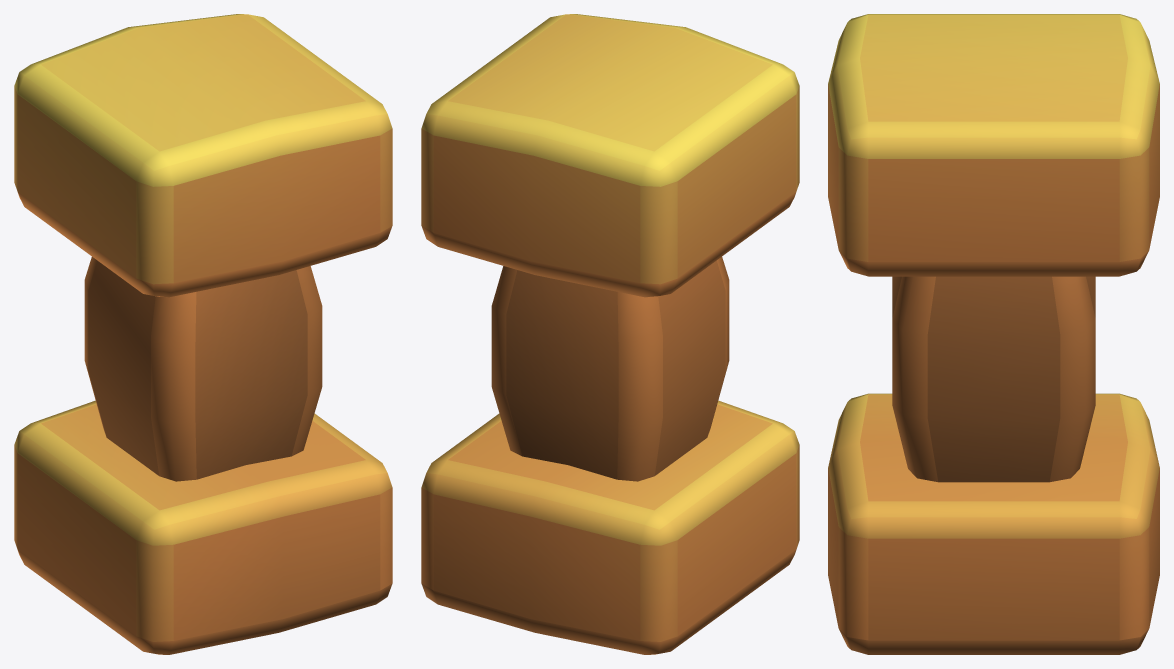
Rendered from rail3_stone.fbx.
3 renders of one model, left to right at view 1: azimuth 30°, elevation 25°; view 2: azimuth 150°, elevation 25°; view 3: azimuth 270°, elevation 25°, orthographic. The views are drawn at different scales.
Visible parts, largest first — view 1: rail3_stone; view 2: rail3_stone; view 3: rail3_stone.
Part boxes in pixels (x1,y1,x2,y2): rail3_stone: (14, 14, 392, 654); rail3_stone: (421, 14, 799, 654); rail3_stone: (828, 14, 1159, 654).
Size of the model in its own units: 55.05 by 106 by 59.08.
